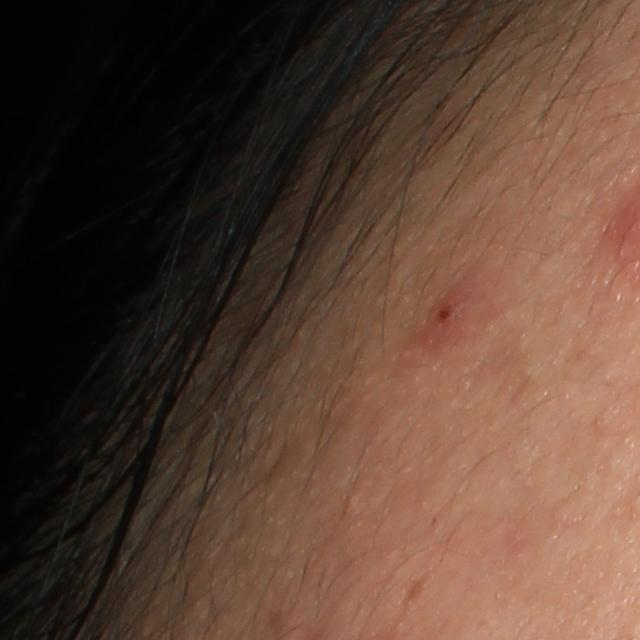papule: (414, 293, 468, 343)
